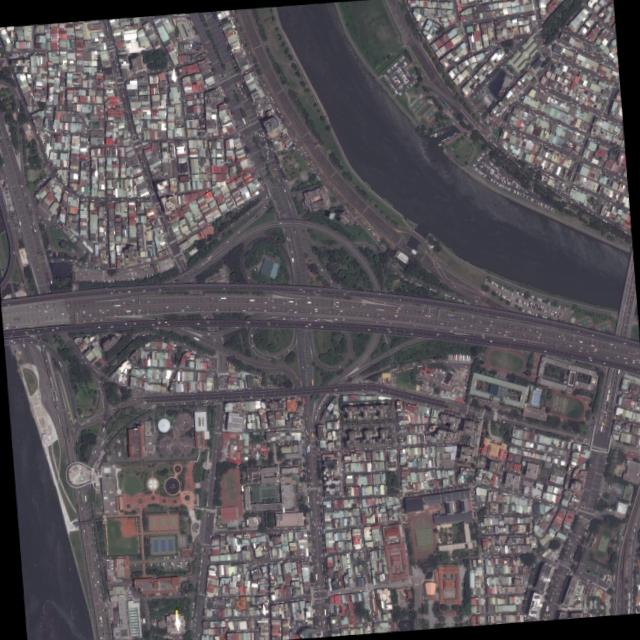storage-tank: (156, 416, 171, 433)
